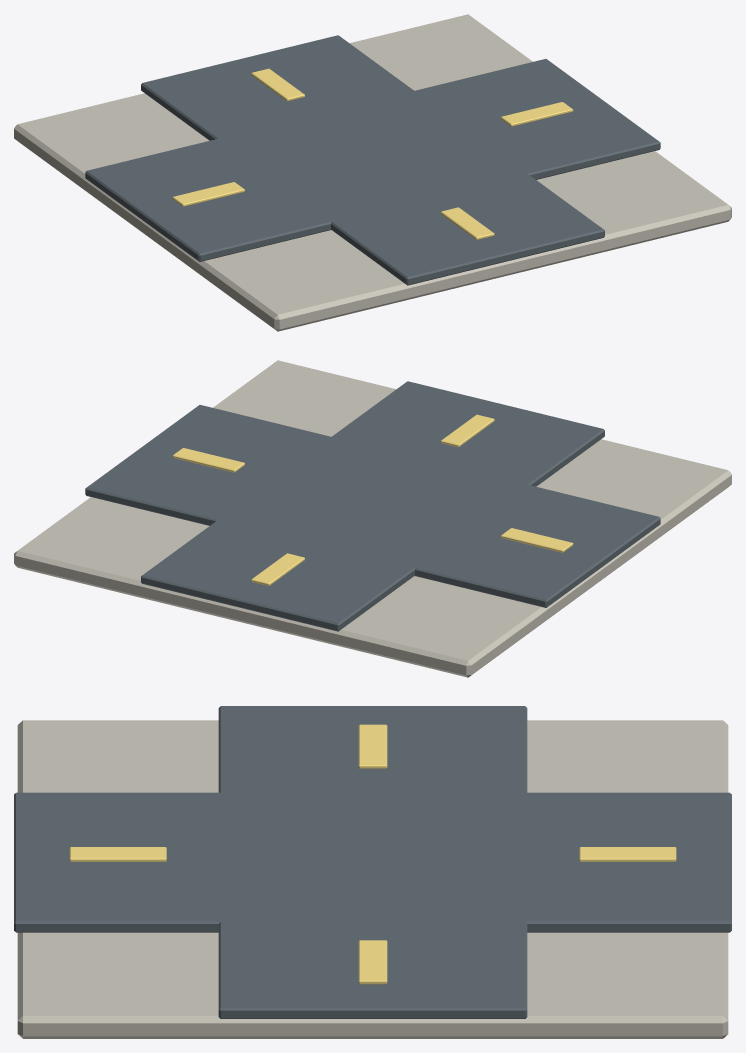
The model's file is ROAD_LOCAL_1x1_CROSS.glb.
The picture shows the model from 3 angles, top to bottom: view 1: azimuth 30°, elevation 25°; view 2: azimuth 150°, elevation 25°; view 3: azimuth 270°, elevation 25°; orthographic projection. The views are drawn at different scales.
Visible parts, largest first — view 1: ROAD_LOCAL_1x1_CROSS_Visual; view 2: ROAD_LOCAL_1x1_CROSS_Visual; view 3: ROAD_LOCAL_1x1_CROSS_Visual.
Boxes of the visible parts, bbox=[...] form: ROAD_LOCAL_1x1_CROSS_Visual: bbox=[14, 14, 731, 331]; ROAD_LOCAL_1x1_CROSS_Visual: bbox=[14, 360, 731, 677]; ROAD_LOCAL_1x1_CROSS_Visual: bbox=[14, 706, 731, 1038].
Size of what is drawn, in the model's own units: 2 by 0.118 by 2.
